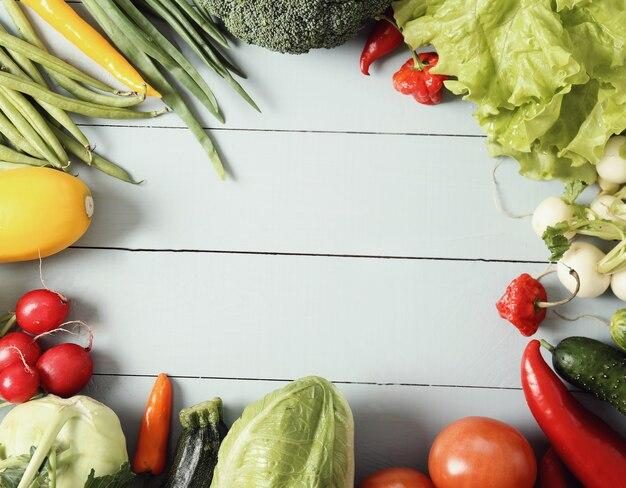carrot: (130, 374, 172, 477)
tomato: (0, 283, 108, 411)
